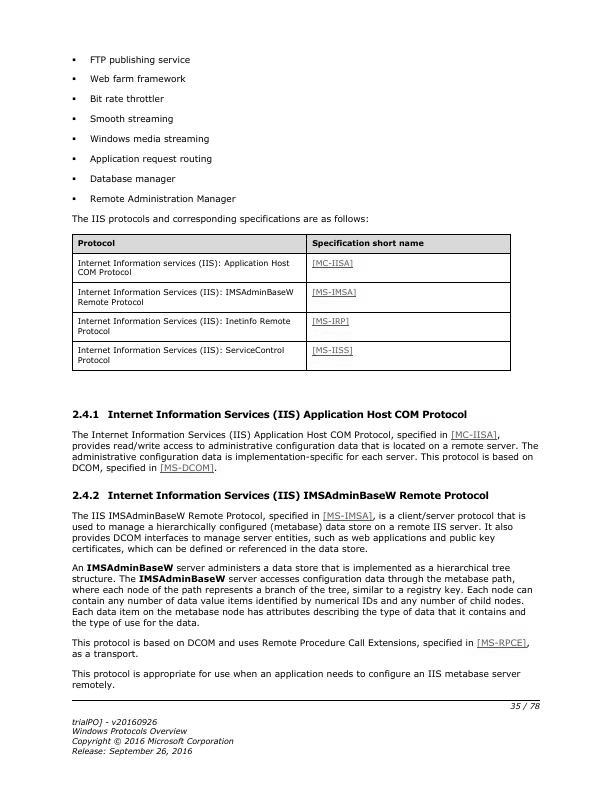table: (70, 232, 514, 373)
text: (68, 563, 535, 629), (68, 426, 540, 476), (68, 509, 527, 553), (68, 636, 530, 661), (68, 667, 522, 691), (68, 716, 234, 757), (68, 406, 470, 421), (68, 489, 492, 501), (68, 212, 370, 226), (87, 152, 220, 167), (87, 131, 211, 147), (87, 192, 238, 205), (86, 70, 188, 85), (85, 52, 192, 64), (86, 112, 176, 126), (86, 92, 173, 105), (87, 173, 179, 184)
